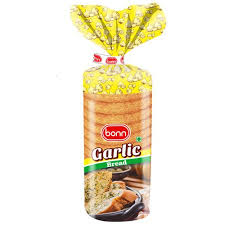bread: (63, 4, 154, 217)
